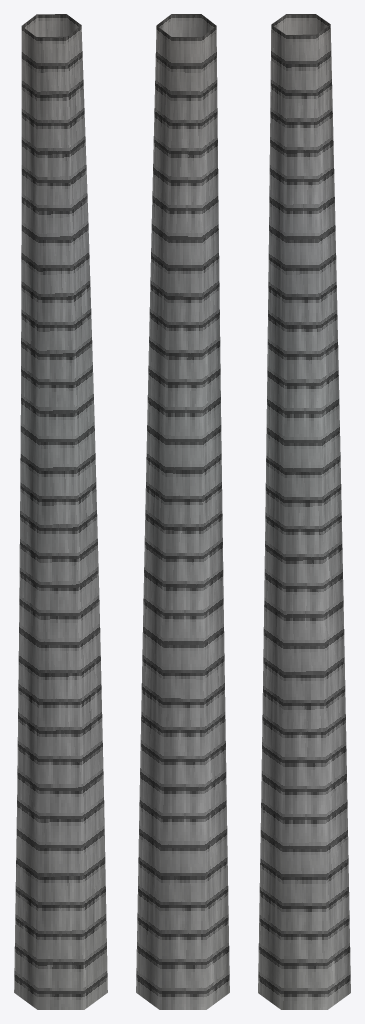
Rendered from tree_fern_bark_l1.gltf.
3 views of the same model, side by side, from view 1: azimuth 90°, elevation 25°; view 2: azimuth 150°, elevation 25°; view 3: azimuth 330°, elevation 25° (orthographic).
Parts seen in each view (by area): view 1: tree_fern_bark_l1; view 2: tree_fern_bark_l1; view 3: tree_fern_bark_l1.
Boxes of the visible parts, left/top/right/bottom form: tree_fern_bark_l1: left=14, top=14, right=107, bottom=1009; tree_fern_bark_l1: left=136, top=14, right=229, bottom=1009; tree_fern_bark_l1: left=258, top=14, right=350, bottom=1009.
Size of the model in its own units: 0.3031 by 4 by 0.35.
Materials: 1 (1 with a texture image).
